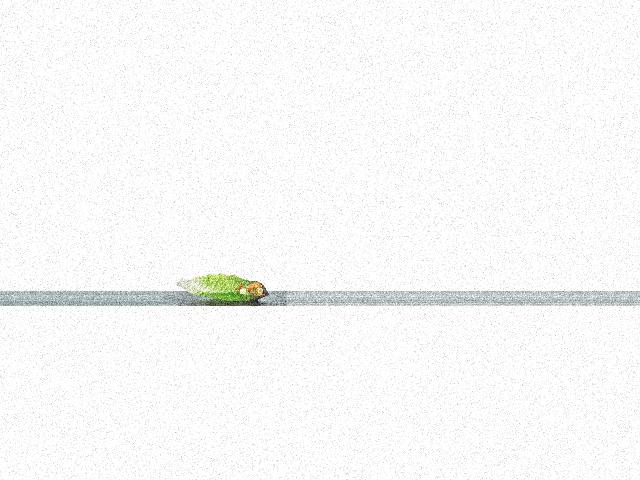lettuce: (175, 270, 272, 306)
